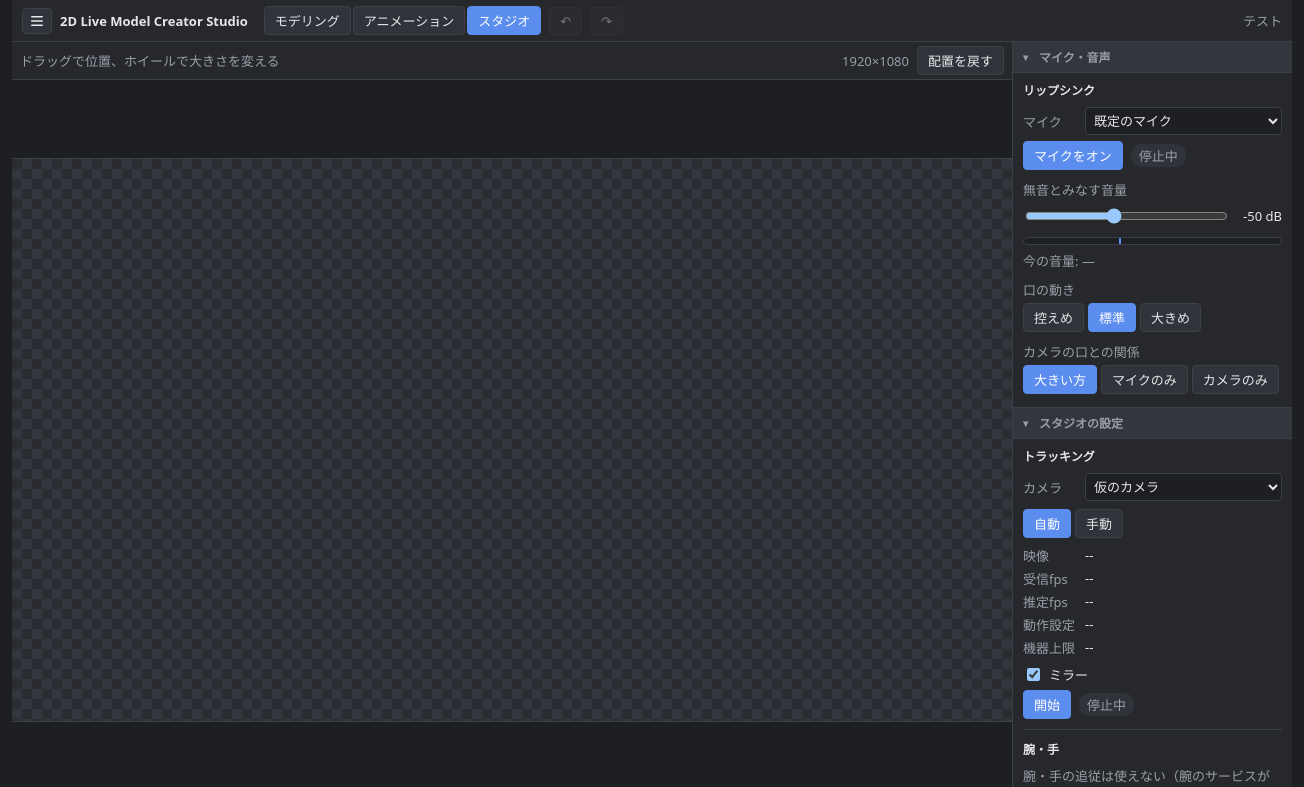
Test: スタジオの設定の「リップシンク」 › しきい値のスライダーは動かしている間すぐに効き、離したときに Environment に保存する
Set the slider labelled "無音とみなす音量" to "-38". click: (1145, 216)
box: [1025, 203, 1228, 229]
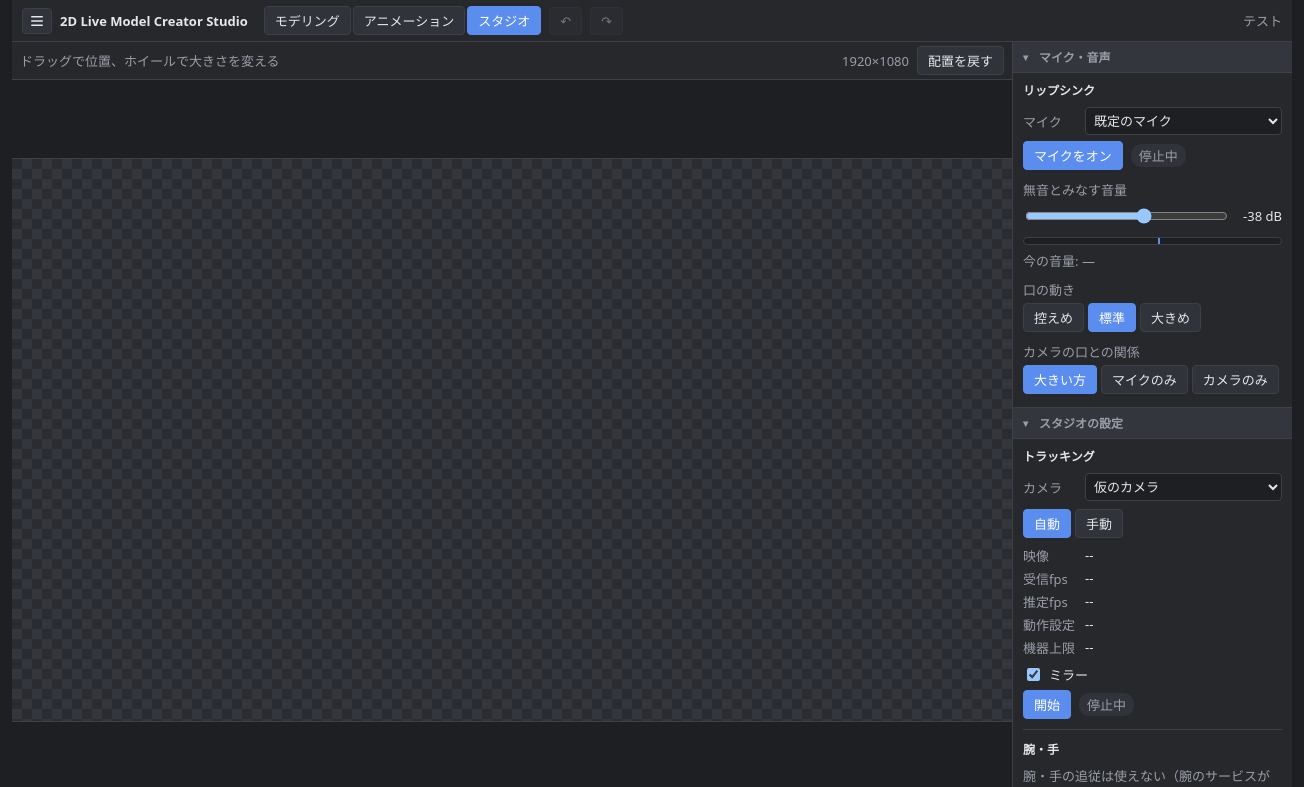
expect the text named "無音とみなす音量の値" reads "-38 dB": met, box [1243, 207, 1282, 225]
Set the slider labelled "無音とみなす音量" to "-36". click: (1151, 216)
box: [1025, 203, 1228, 229]
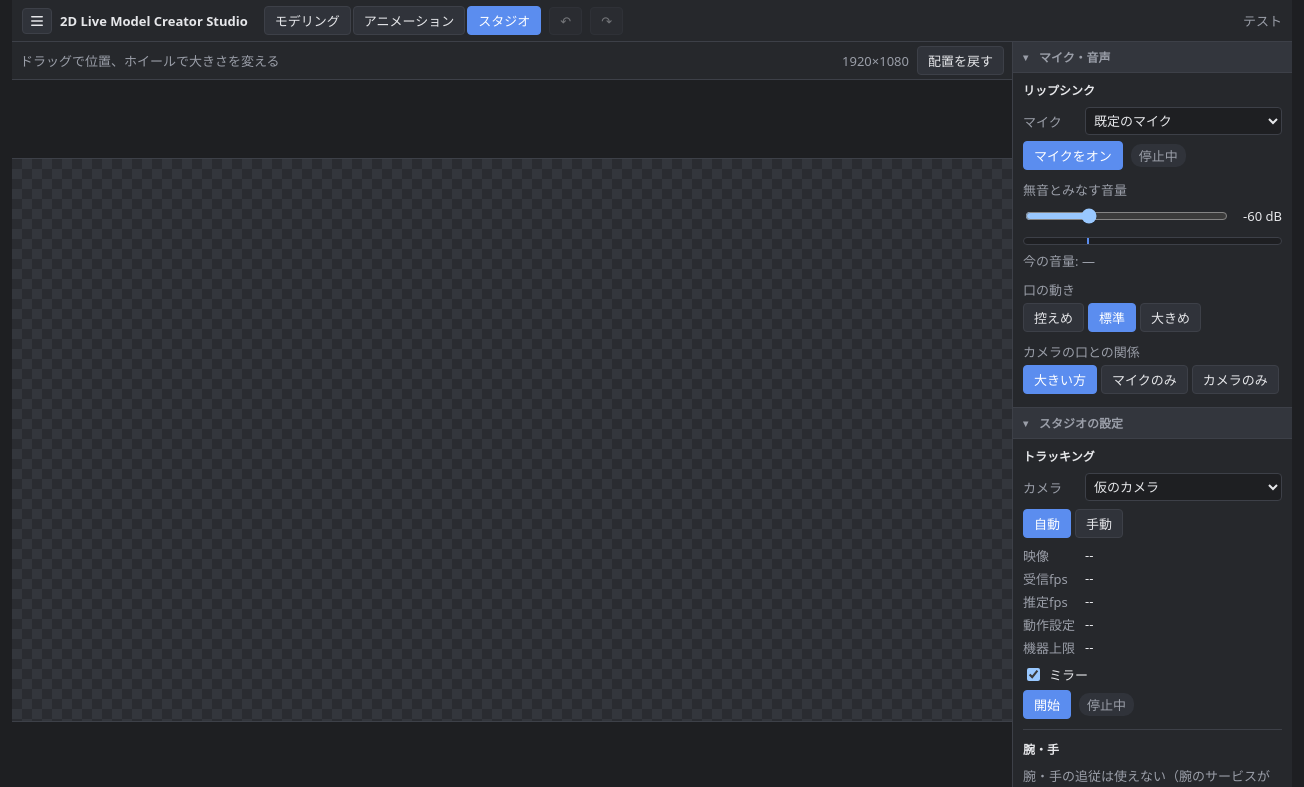
expect the slider labelled "無音とみなす音量" holds "-60": met, box [1025, 203, 1228, 229]
